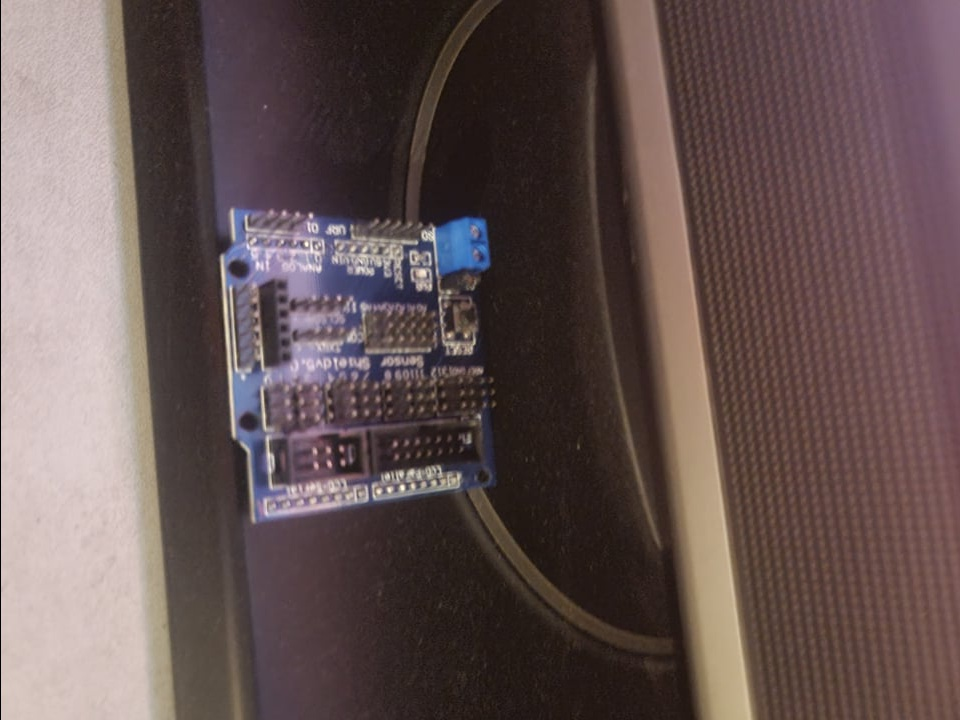5V EXPANSION: (217, 209, 495, 526)
